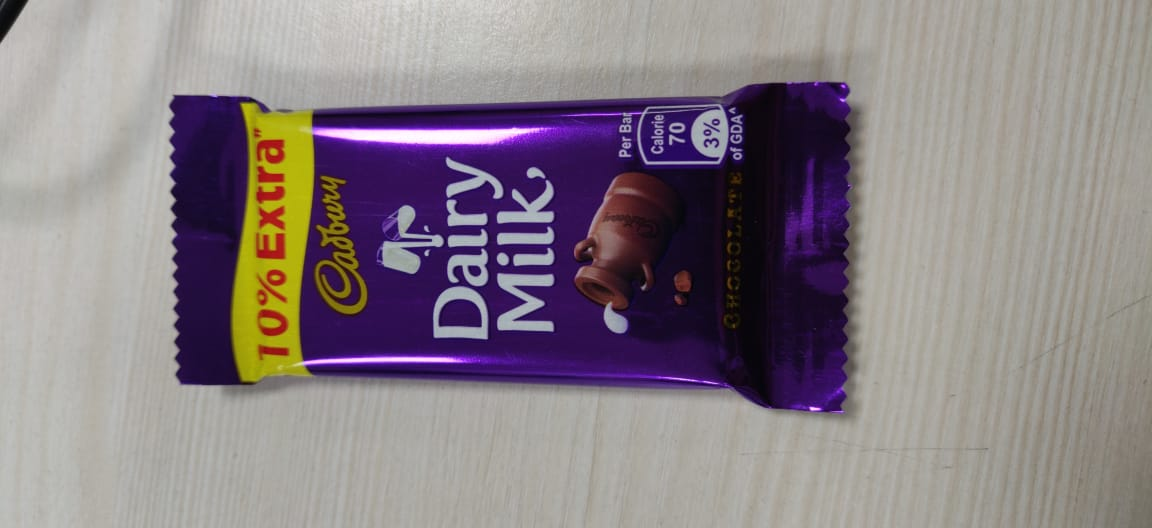dairy milk: (159, 75, 892, 426)
